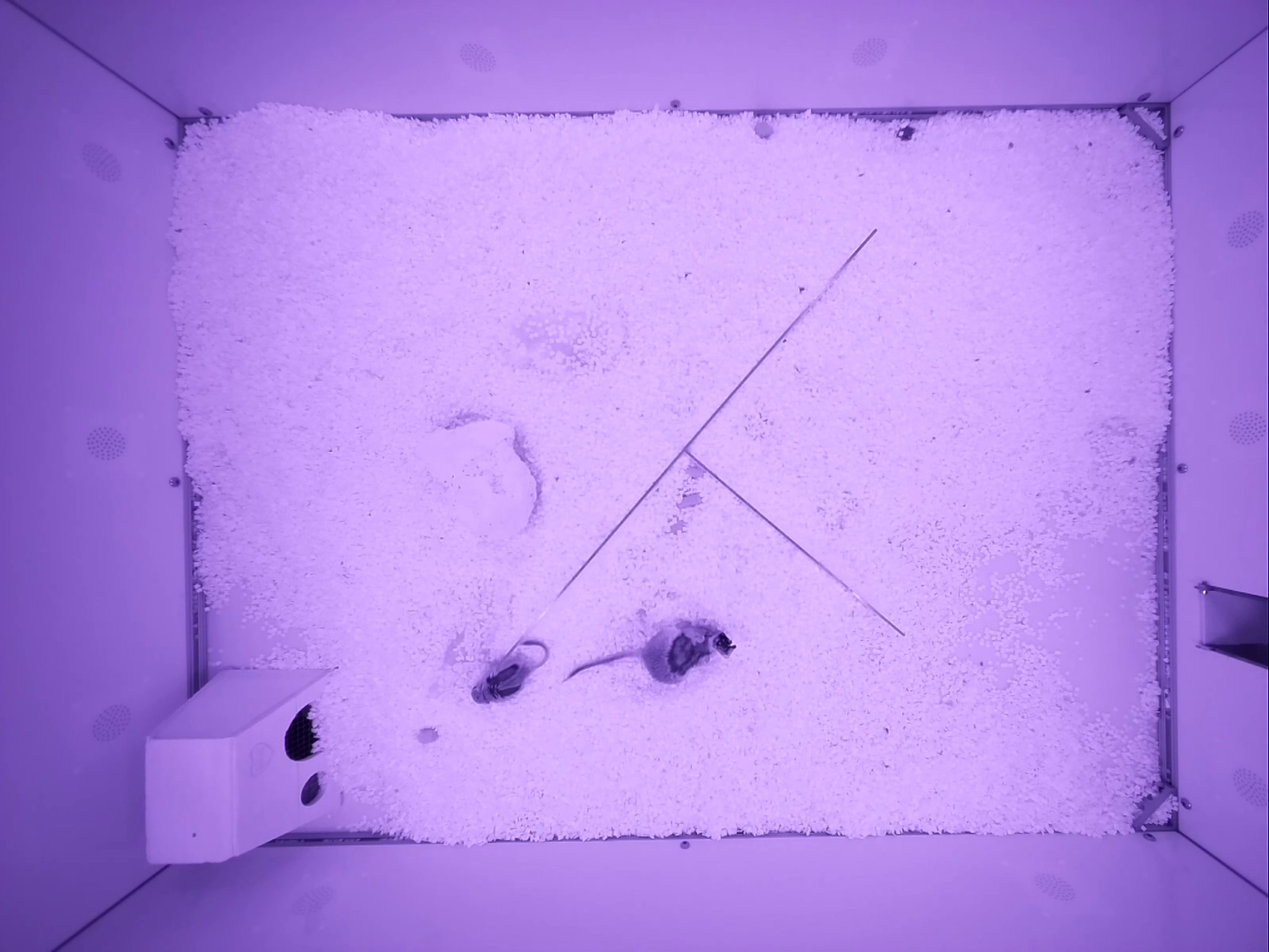adult_back: (565, 620, 734, 682), (471, 639, 549, 703)
